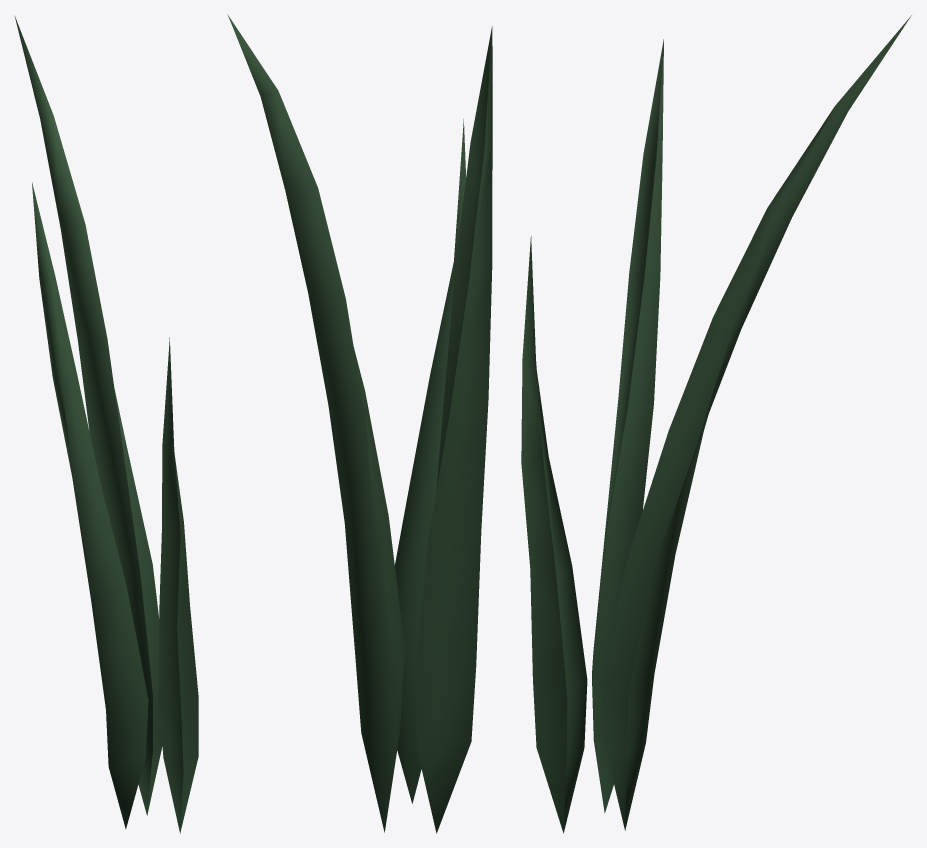
The picture shows the model from 3 angles, left to right: view 1: azimuth 30°, elevation 25°; view 2: azimuth 150°, elevation 25°; view 3: azimuth 270°, elevation 25°; orthographic projection. The views are drawn at different scales.
Parts seen in each view (by area): view 1: alt214; view 2: alt214; view 3: alt214.
Boxes of the visible parts, x1,y1,x2,y2 form: alt214: (14,15,198,833); alt214: (227,14,492,833); alt214: (521,15,911,833).
Bounding box in the file's own units: 0.0916 × 0.5 × 0.218.
